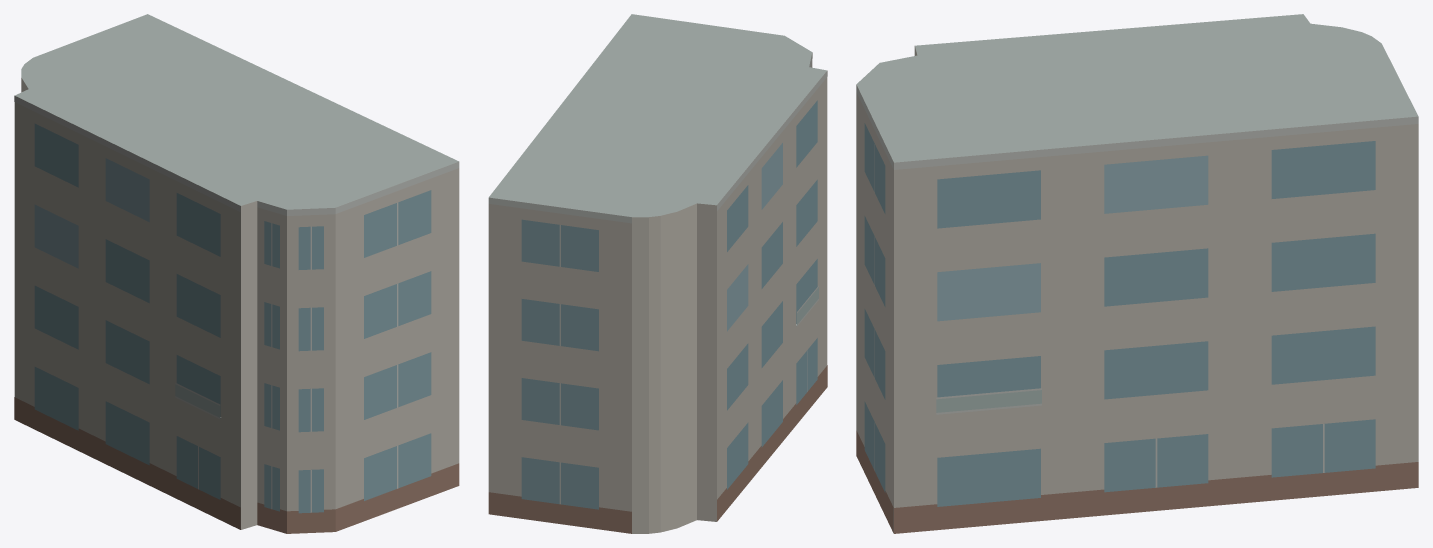
Rendered from survey-upis-32526559.glb.
3 renders of one model, left to right at view 1: azimuth 30°, elevation 25°; view 2: azimuth 150°, elevation 25°; view 3: azimuth 270°, elevation 25°, orthographic. The views are drawn at different scales.
Parts seen in each view (by area): view 1: survey-upis-32526559.tmp; view 2: survey-upis-32526559.tmp; view 3: survey-upis-32526559.tmp.
Part boxes in pixels (left/top/right/bottom): survey-upis-32526559.tmp: left=14, top=14, right=459, bottom=533; survey-upis-32526559.tmp: left=488, top=14, right=827, bottom=533; survey-upis-32526559.tmp: left=856, top=14, right=1418, bottom=533.
Size of the model in its own units: 10.66 by 12.4 by 17.03.
